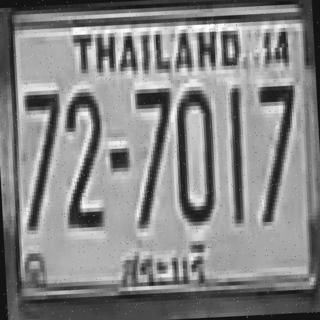N00: (171, 86, 215, 223)
N01: (226, 84, 246, 224)
N02: (59, 88, 105, 225)
N07: (253, 82, 300, 222), (20, 86, 64, 227), (131, 84, 175, 225)
P60: (112, 230, 214, 298)
